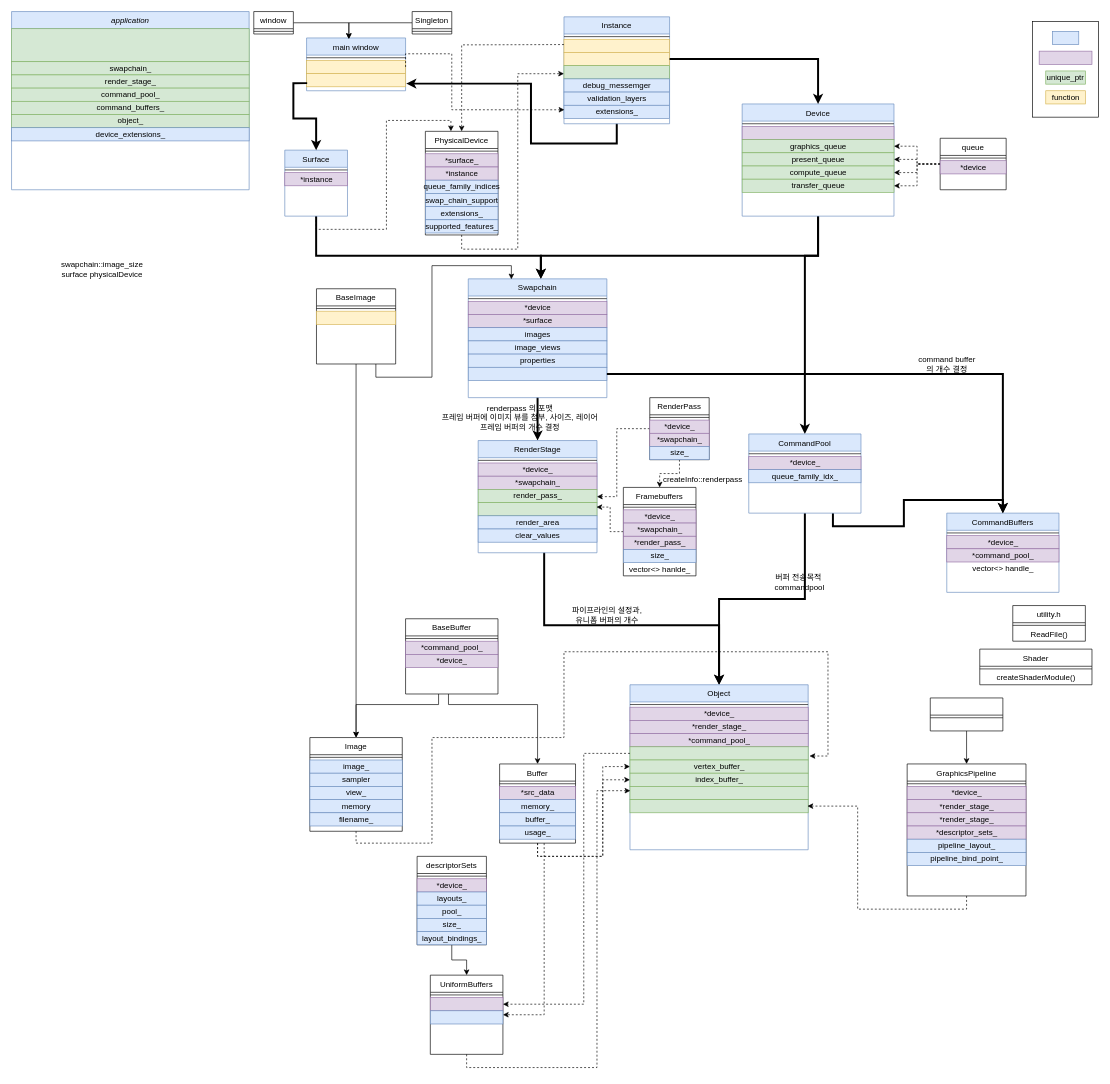
The diagram is 1110 pixels wide and 1084 high, and some of its shapes have lost their labels. The centre of each missing label's shape, as x and y in pixels:
*gpu: point 818,133
*image_: point 466,1004
buffers_: point 466,1017
const pointer: point 1065,57
create_image_view(): point 356,317
create_surface(): point 356,80
framebuffer_: point 537,509
get_extensions(): point 356,67
get_suitable_gpu(): point 616,59
gpus: point 616,72
graphics_pipeline_: point 718,806
image_size_: point 537,373
instance_ surface_ device_: point 130,45
Pipeline: point 966,714
query_gpus(): point 616,45
texture_: point 718,753
uniform_buffers_: point 718,793
value: point 1065,38
